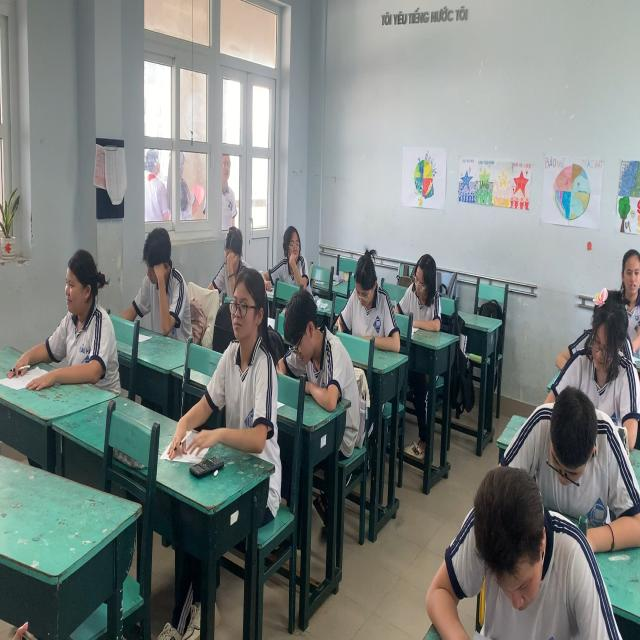cheating: (266, 216, 318, 292)
not_cheating: (442, 478, 562, 640), (216, 268, 272, 457), (53, 240, 119, 388), (567, 284, 626, 434), (534, 364, 593, 512), (336, 240, 401, 351), (282, 275, 340, 392), (130, 226, 187, 344), (402, 247, 445, 344), (616, 237, 640, 354), (210, 222, 248, 284)
